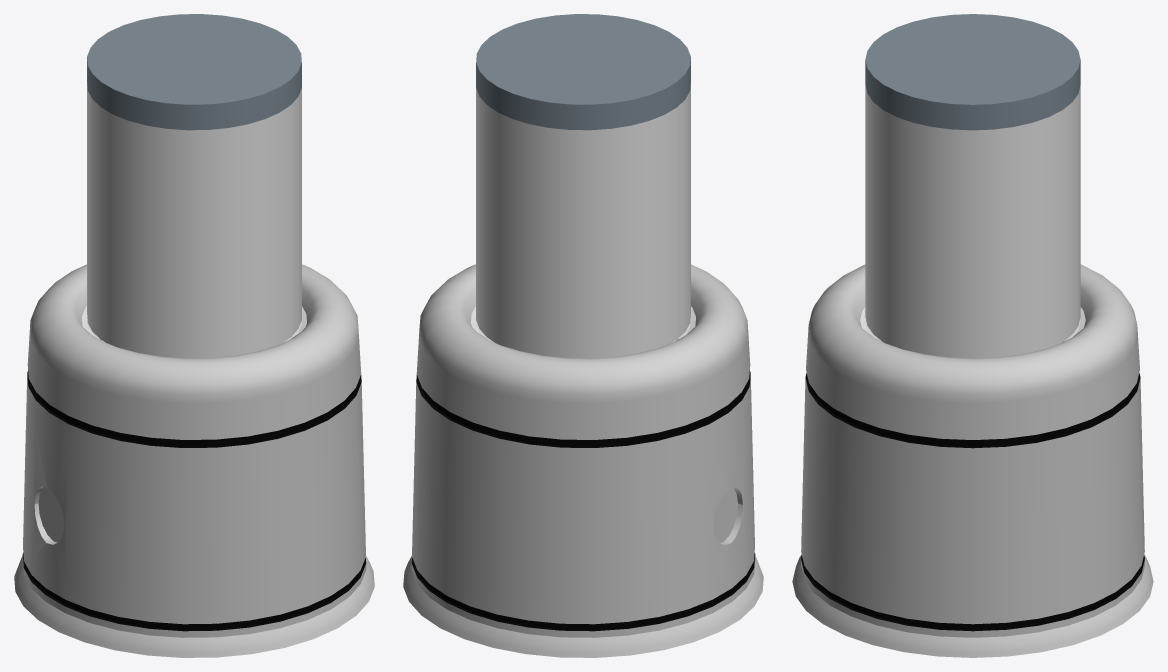
Rendered from incubator3.fbx.
The picture shows the model from 3 angles, left to right: view 1: azimuth 30°, elevation 25°; view 2: azimuth 150°, elevation 25°; view 3: azimuth 270°, elevation 25°; orthographic projection.
Visible parts, largest first — view 1: Circle.001, Circle.002; view 2: Circle.001, Circle.002; view 3: Circle.001, Circle.002.
Part boxes in pixels (x1,y1,x2,y2): Circle.001: (14, 14, 374, 657); Circle.002: (87, 82, 301, 358); Circle.001: (403, 14, 763, 657); Circle.002: (476, 82, 690, 358); Circle.001: (792, 14, 1153, 657); Circle.002: (865, 85, 1080, 358).
Bounding box in the file's own units: 604 × 963 × 604.
